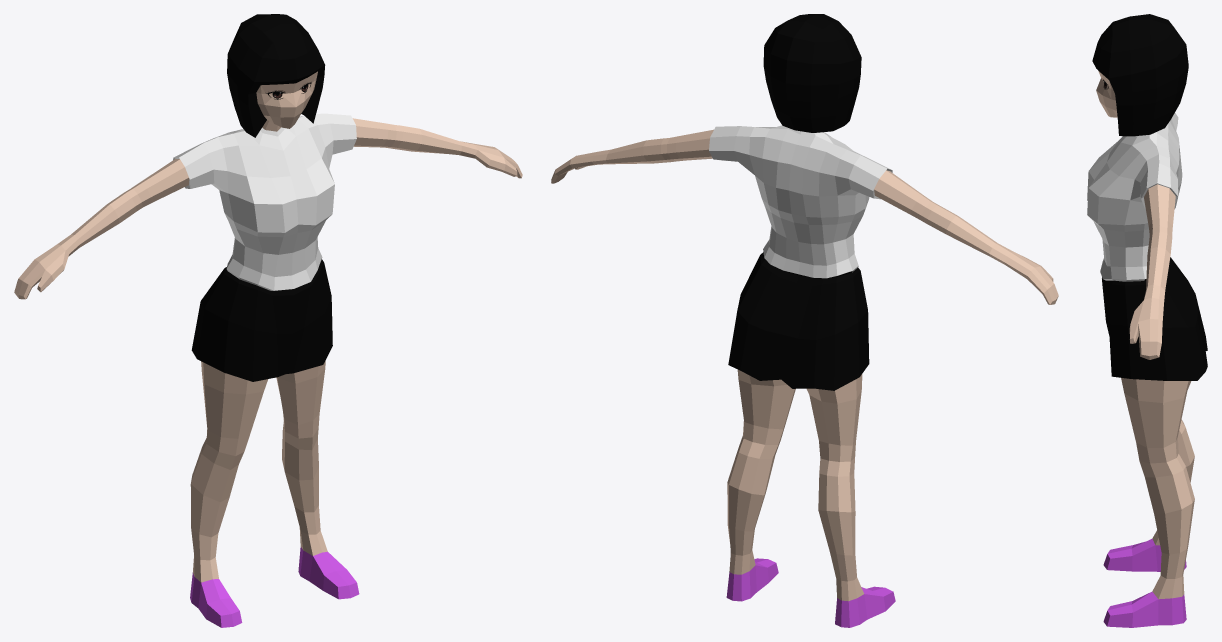
The model's file is baby_with_clothes.fbx.
3 views of the same model, side by side, from view 1: azimuth 30°, elevation 25°; view 2: azimuth 150°, elevation 25°; view 3: azimuth 270°, elevation 25° (orthographic).
Parts seen in each view (by area): view 1: BabyWithClothes; view 2: BabyWithClothes; view 3: BabyWithClothes.
Part boxes in pixels (x1,y1,x2,y2): BabyWithClothes: (14,14,522,627); BabyWithClothes: (551,14,1058,627); BabyWithClothes: (1087,14,1207,627).
Bounding box in the file's own units: 145 × 160 × 30.56.
